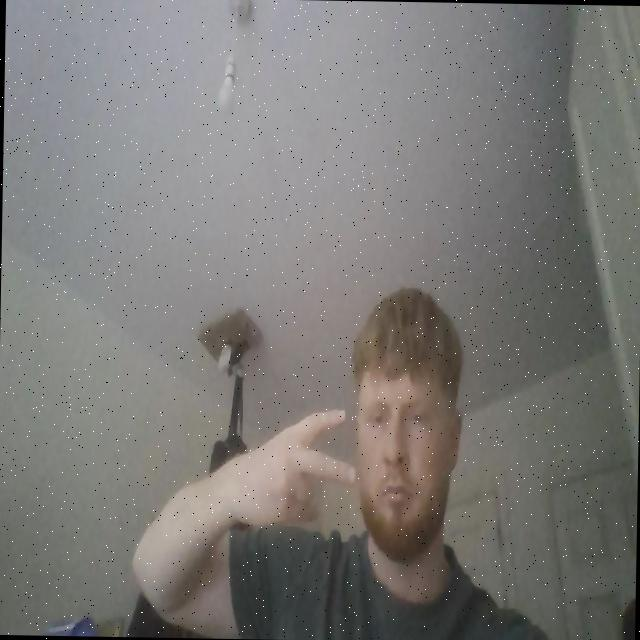scissors: (235, 404, 358, 533)
